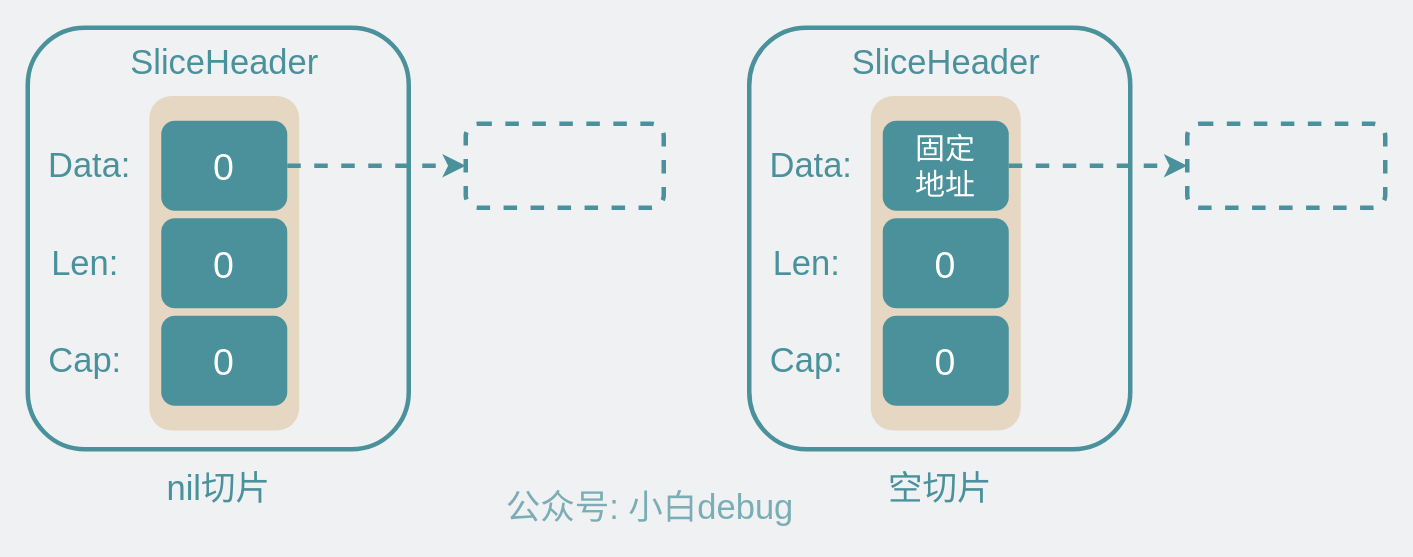
This 1413x557 diagram has some shape labels left out. Each missing label, with the centre of its shape:
"zero数组" belongs at (x=1285, y=165).
"不存在" belongs at (x=564, y=165).
